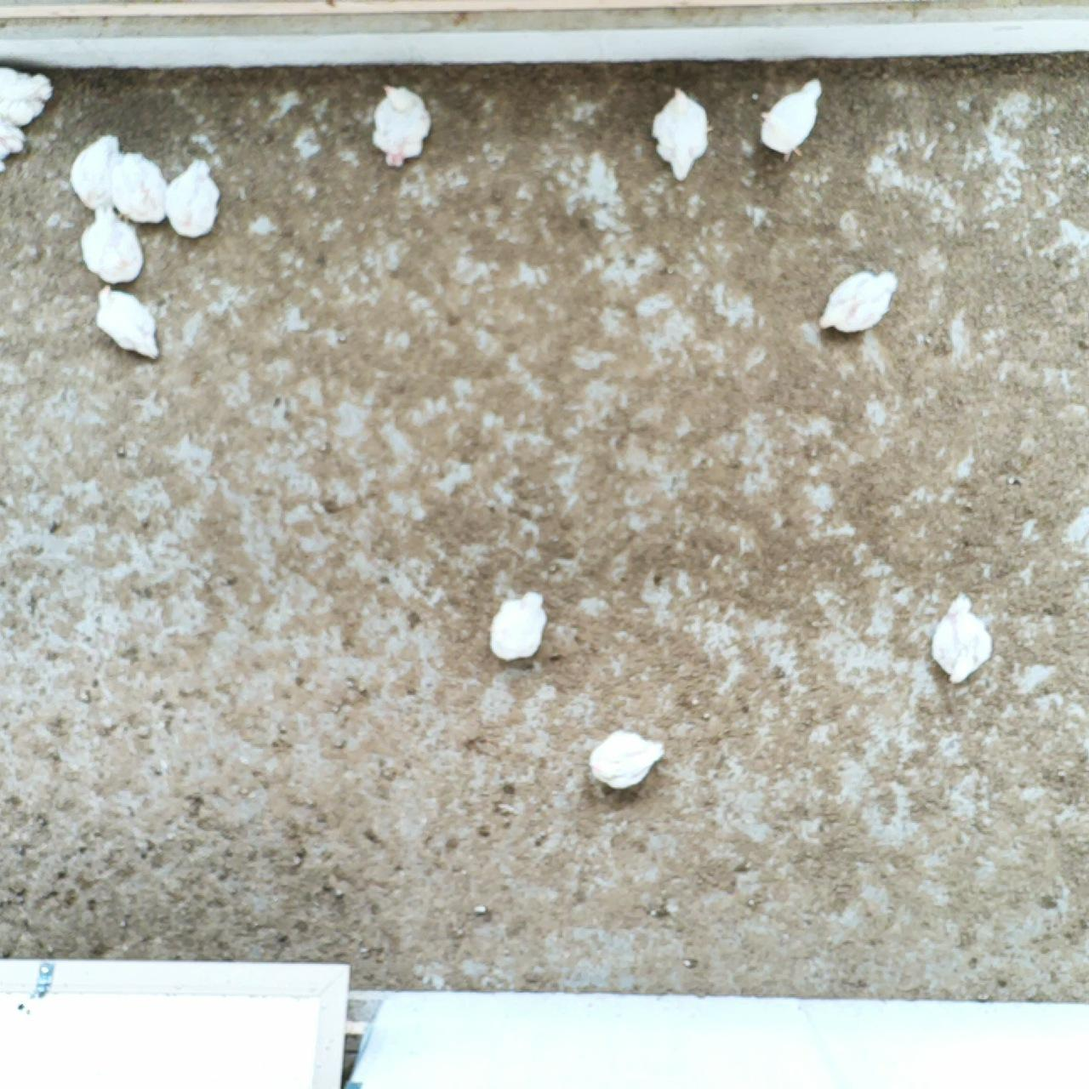chicken: (85, 283, 166, 360), (654, 84, 715, 181), (759, 76, 826, 164), (816, 267, 901, 336), (75, 202, 142, 288), (931, 592, 991, 686), (371, 81, 433, 166), (589, 728, 666, 793), (112, 146, 172, 229), (169, 155, 224, 240), (489, 588, 546, 665), (67, 131, 120, 212), (0, 63, 53, 127), (0, 106, 25, 174)
